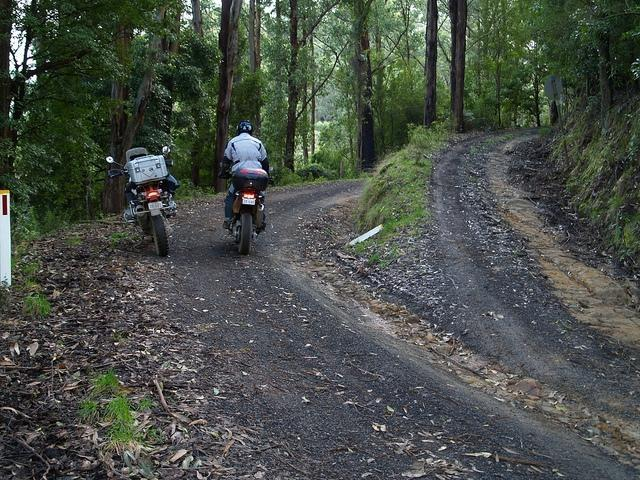motorcycle: (105, 146, 178, 256), (228, 158, 270, 255)
